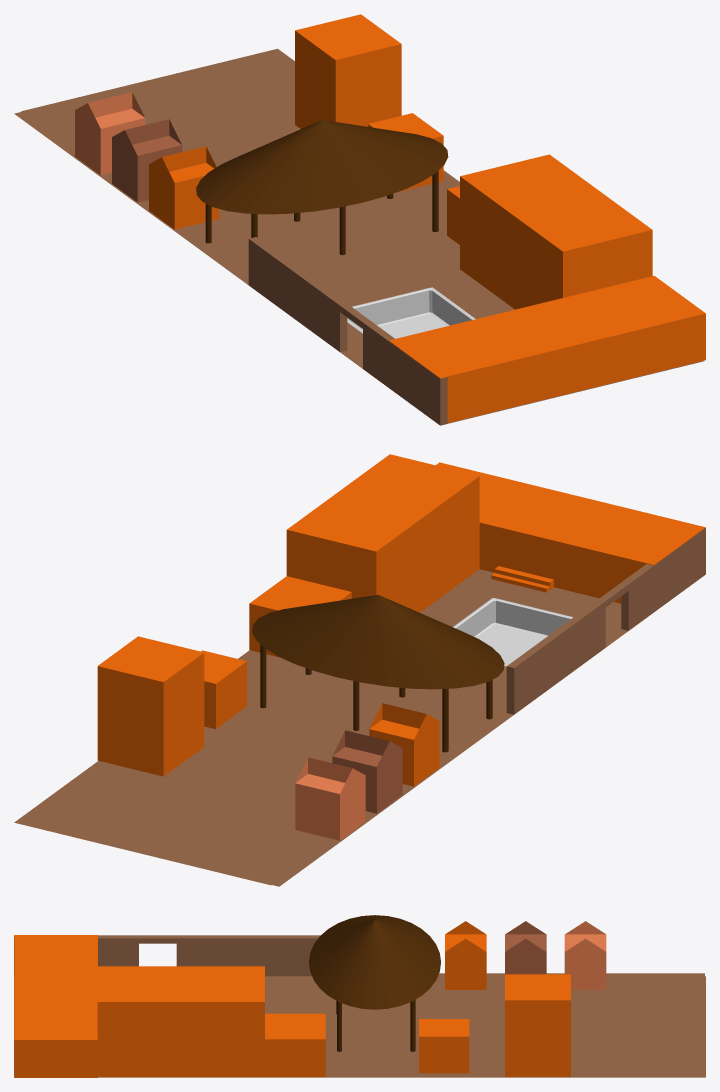
File: casa_elim.glb
3 views of the same model, one above another, from view 1: azimuth 30°, elevation 25°; view 2: azimuth 150°, elevation 25°; view 3: azimuth 270°, elevation 25° (orthographic). The views are drawn at different scales.
Visible parts, largest first — view 1: piso, casaG, casa2, Palapa, Cube.004, Cabañitas.001, Alberca, Cabañitas.002, Cabañitas; view 2: piso, casa2, casaG, Palapa, Cube.004, Cabañitas, Alberca, Cabañitas.002, Cabañitas.001; view 3: piso, casa2, casaG, Palapa, Cube.004, Cabañitas.001, Cabañitas, Cabañitas.002.
Part boxes in pixels (x1,y1,x2,y2): piso: [14, 48, 704, 425]; casaG: [389, 275, 705, 422]; casa2: [447, 154, 652, 309]; Palapa: [196, 120, 448, 255]; Cube.004: [295, 14, 443, 191]; Cabañitas.001: [149, 146, 219, 229]; Alberca: [347, 287, 475, 338]; Cabañitas.002: [112, 119, 182, 202]; Cabañitas: [75, 92, 145, 175]; piso: [14, 528, 705, 886]; casa2: [249, 454, 479, 657]; casaG: [436, 462, 705, 603]; Palapa: [252, 595, 504, 752]; Cube.004: [97, 636, 246, 776]; Cabañitas: [295, 757, 365, 840]; Alberca: [453, 598, 573, 666]; Cabañitas.002: [332, 730, 402, 813]; Cabañitas.001: [369, 703, 439, 786]; piso: [14, 935, 705, 1077]; casa2: [97, 966, 325, 1077]; casaG: [14, 935, 97, 1077]; Palapa: [309, 915, 440, 1051]; Cube.004: [419, 974, 570, 1076]; Cabañitas.001: [445, 921, 486, 989]; Cabañitas: [564, 921, 606, 989]; Cabañitas.002: [505, 921, 546, 974].
Size of the model in its own units: 12.61 by 6.05 by 33.2.
